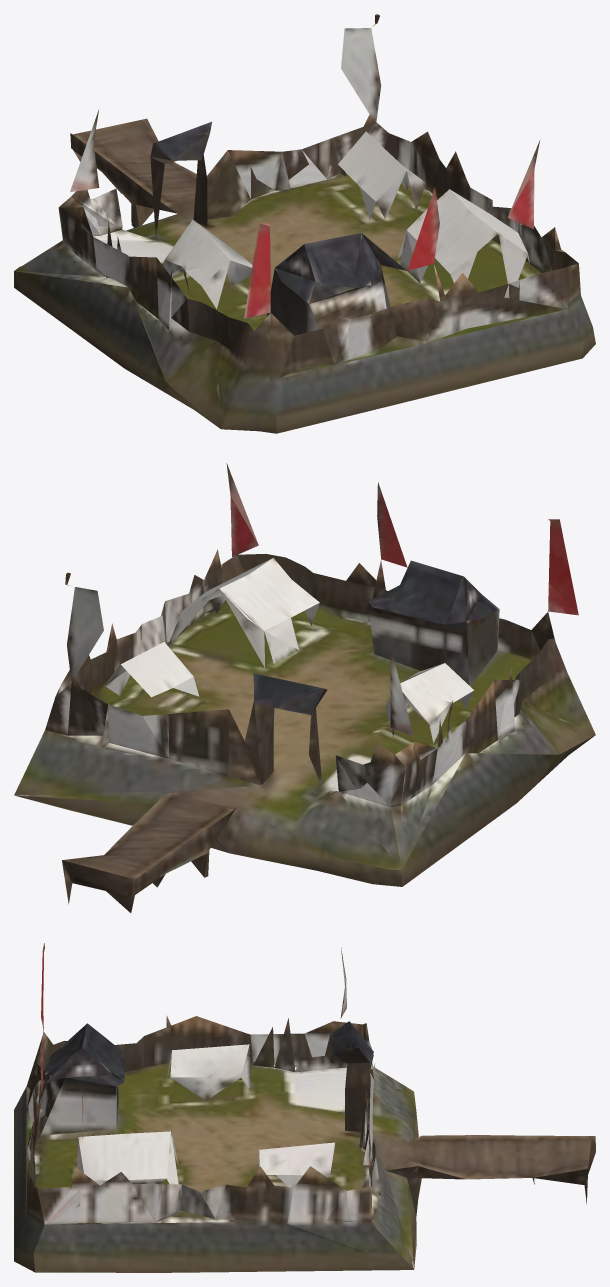
Rendered from camp_japan_1_far.glb.
3 renders of one model, top to bottom at view 1: azimuth 30°, elevation 25°; view 2: azimuth 150°, elevation 25°; view 3: azimuth 270°, elevation 25°, orthographic. The views are drawn at different scales.
Parts seen in each view (by area): view 1: camp_japan_1_far; view 2: camp_japan_1_far; view 3: camp_japan_1_far.
Boxes of the visible parts, left/top/right/bottom form: camp_japan_1_far: left=14, top=14, right=595, bottom=433; camp_japan_1_far: left=14, top=463, right=595, bottom=912; camp_japan_1_far: left=14, top=943, right=595, bottom=1272.
Bounding box in the file's own units: 0.6893 × 0.3597 × 1.
Materials: 1 (1 with a texture image).
